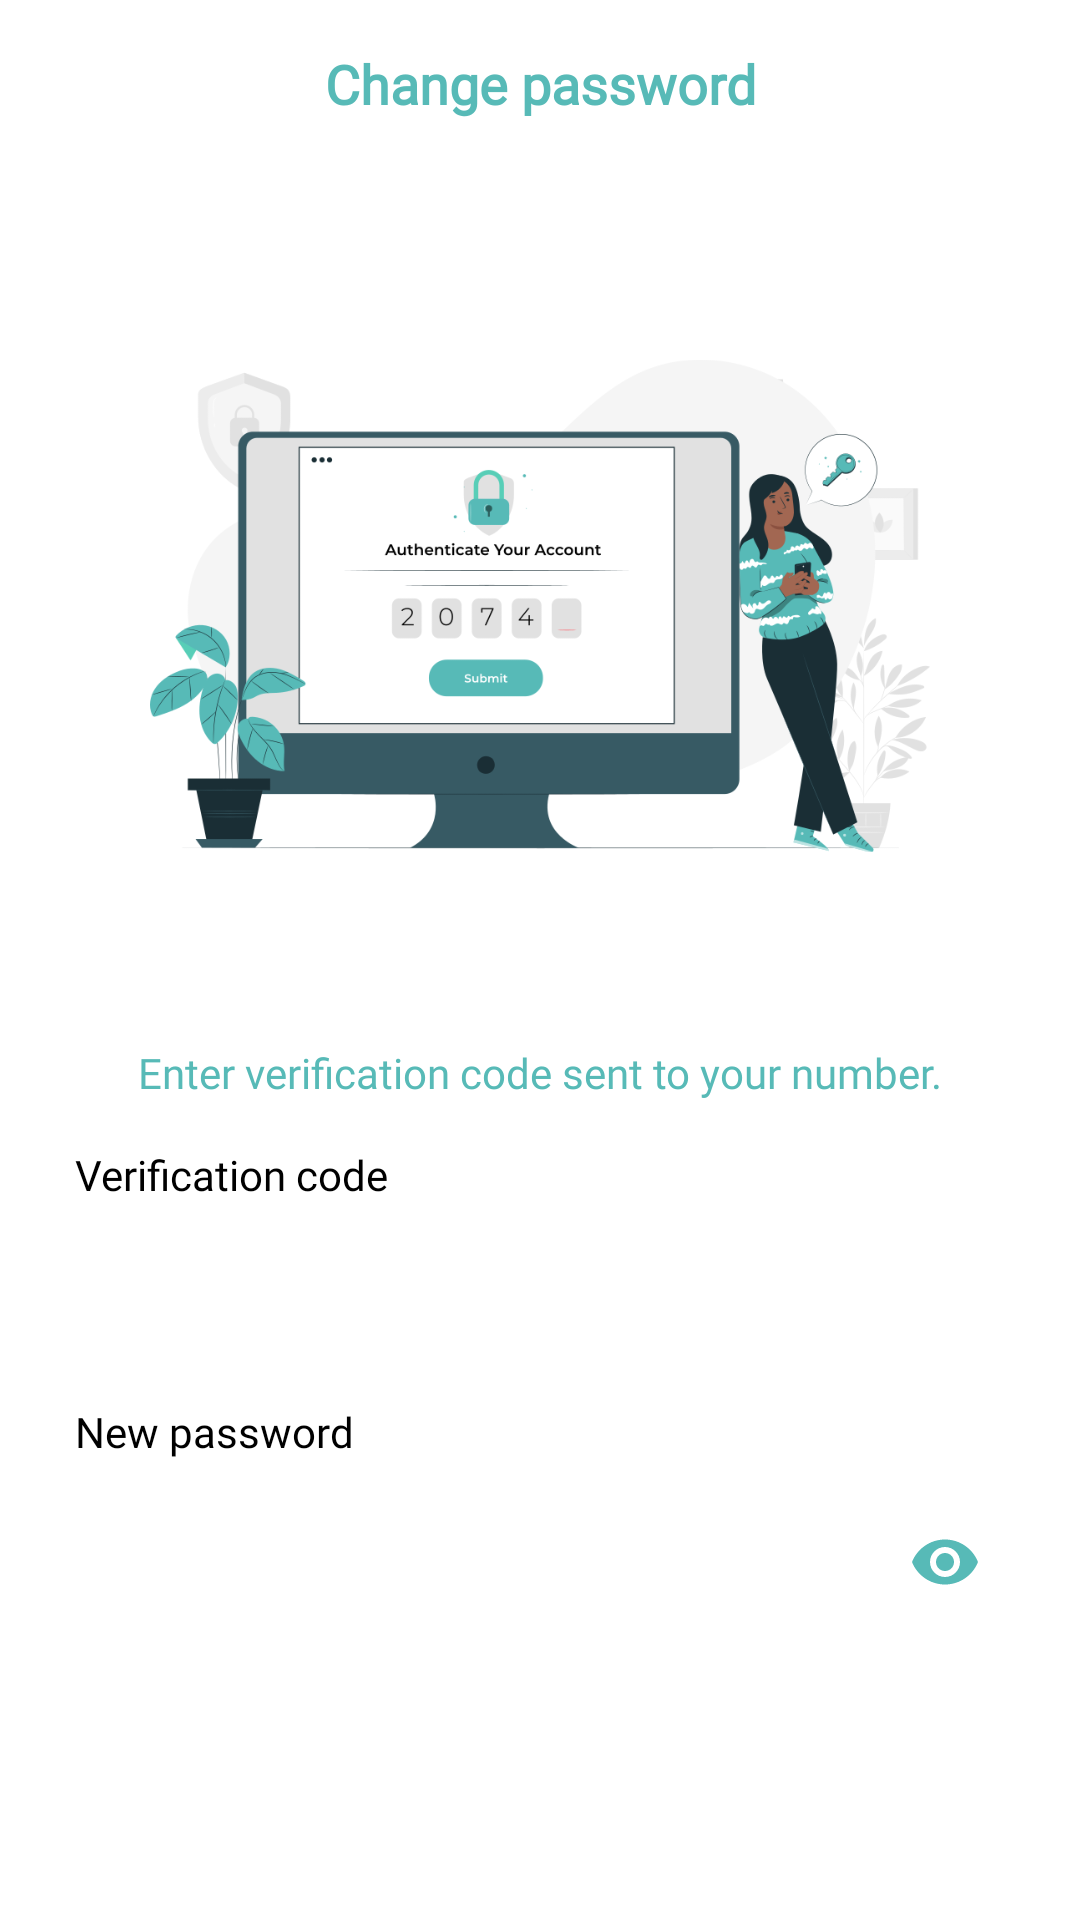

Icons on this 1080px×1920px Android screen, each with the point to tap as (x,y):
show pass: (945,1562)
